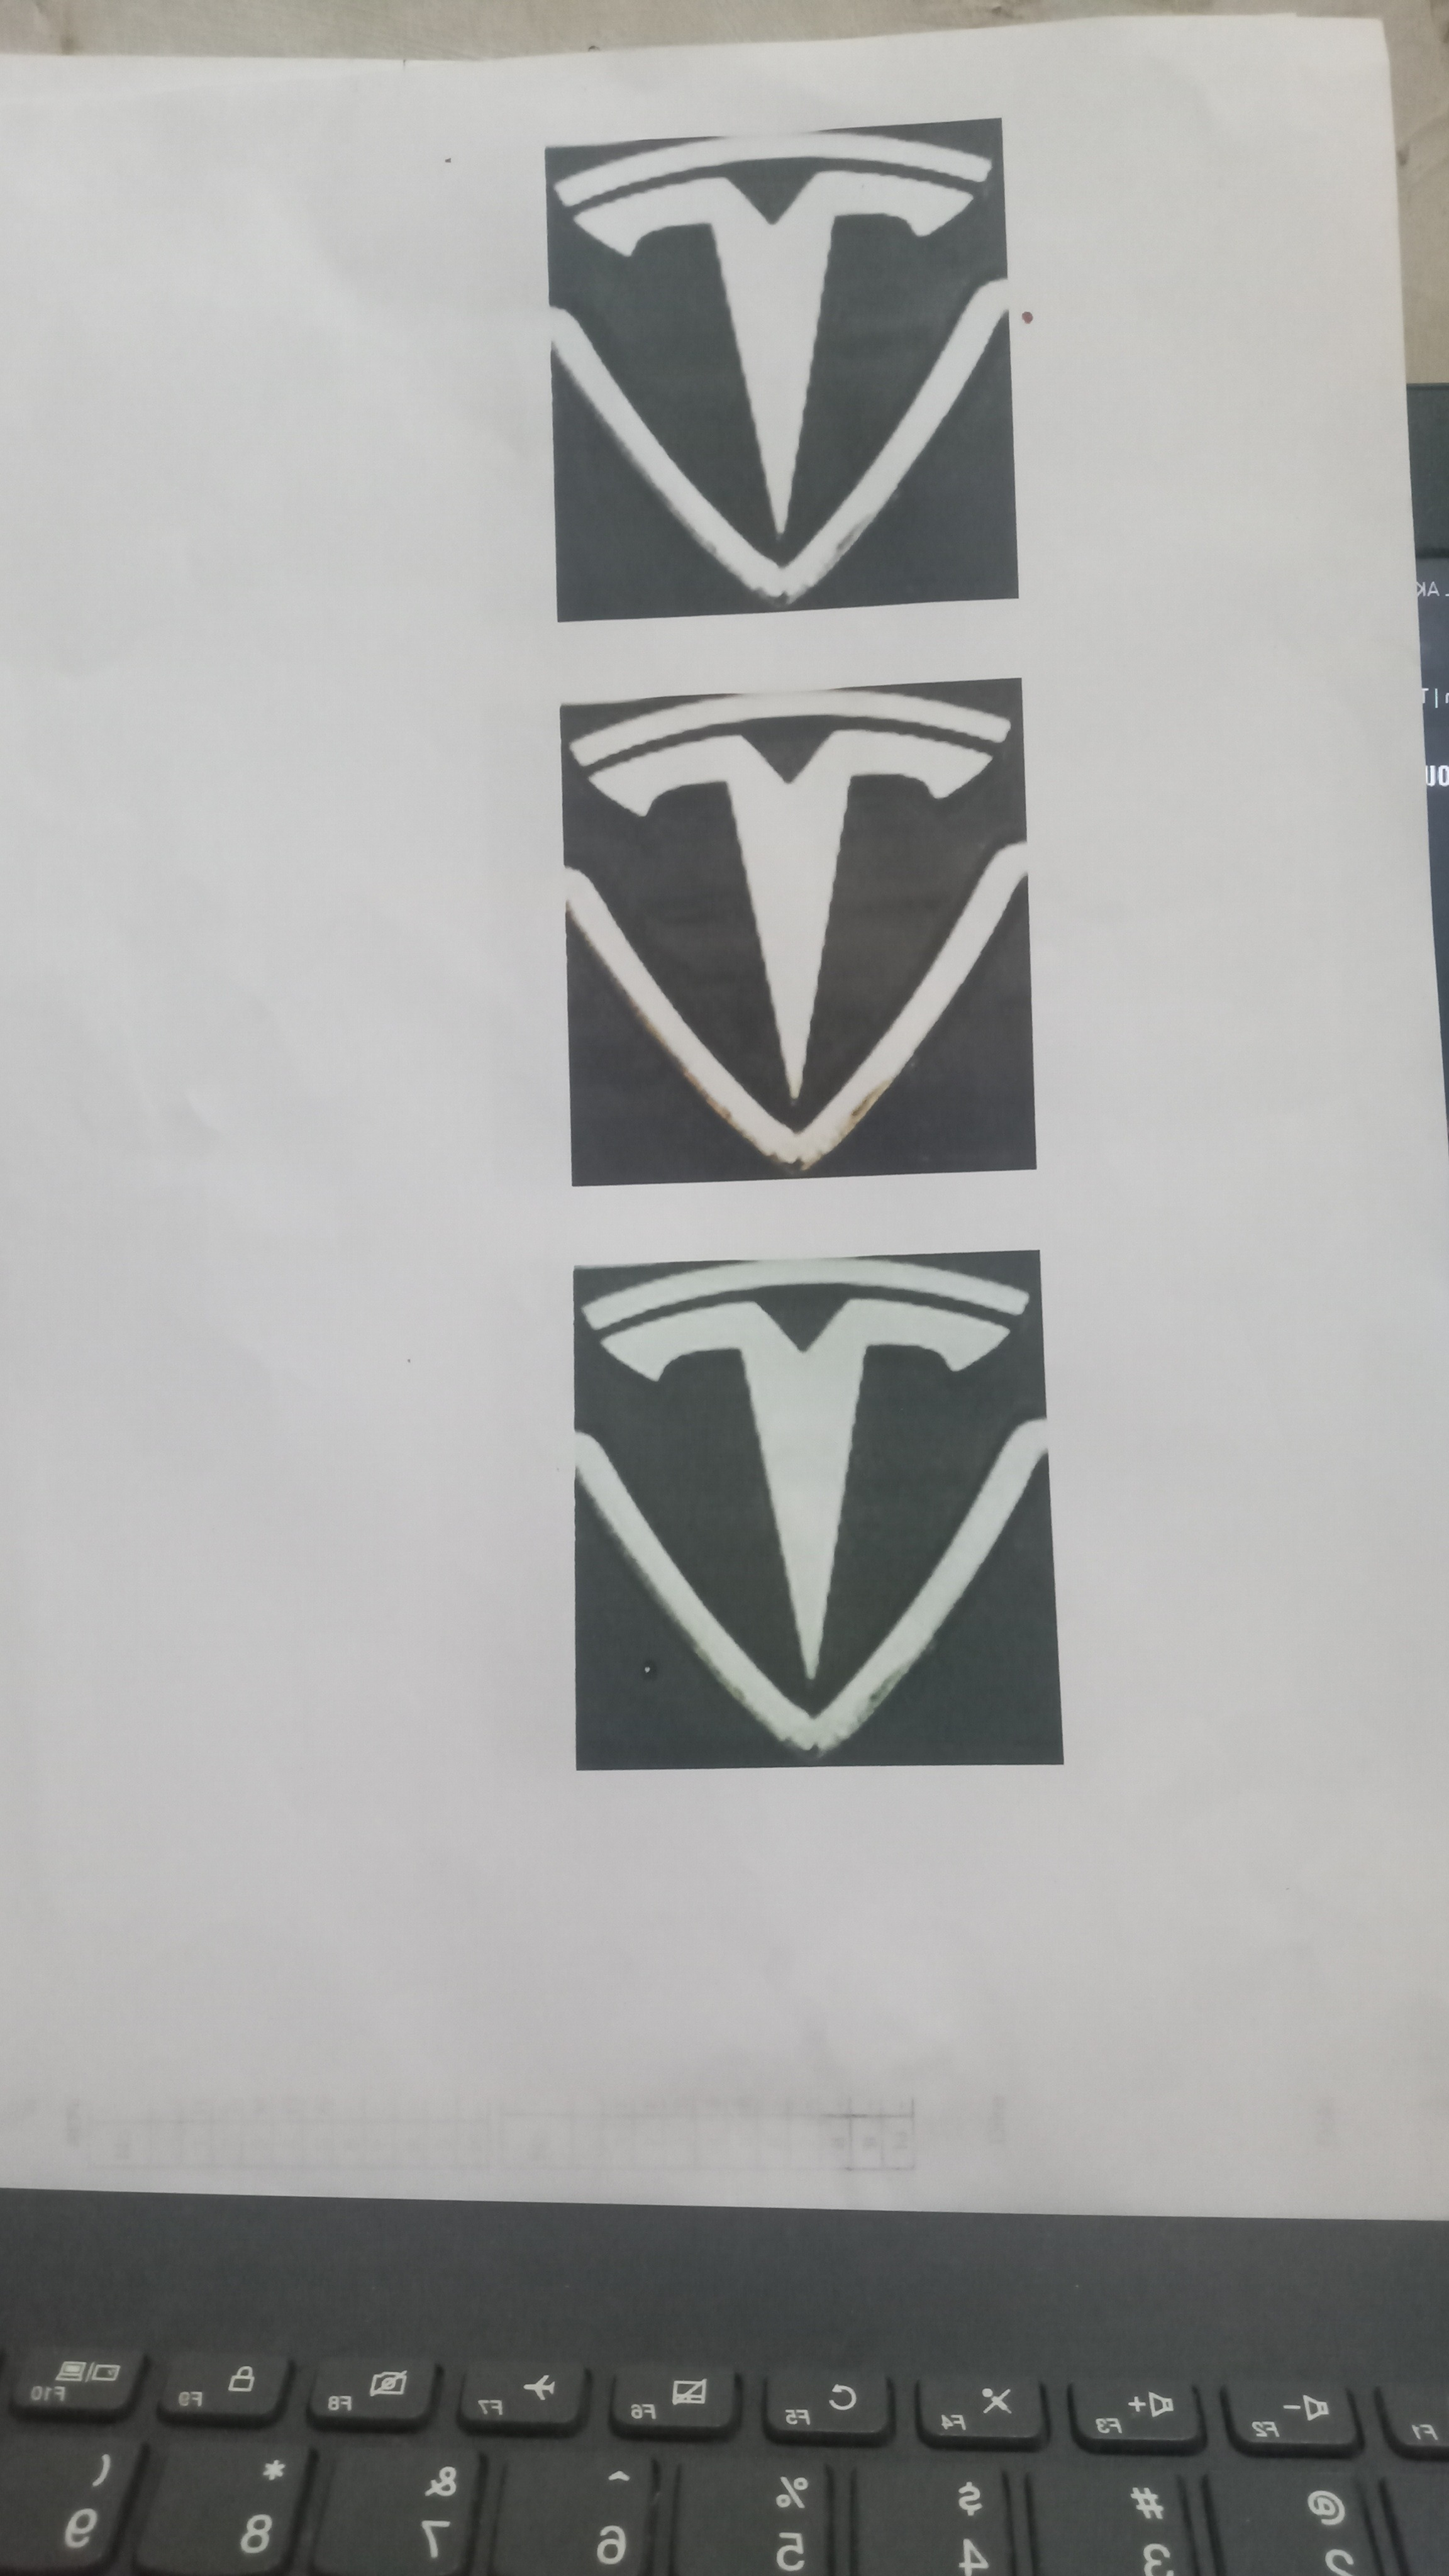Tesla: (566, 1251, 1053, 1767), (561, 681, 1030, 1177), (541, 126, 1012, 616)
